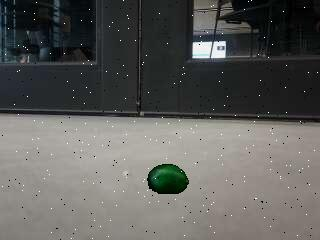Lime: (147, 163, 190, 196)
